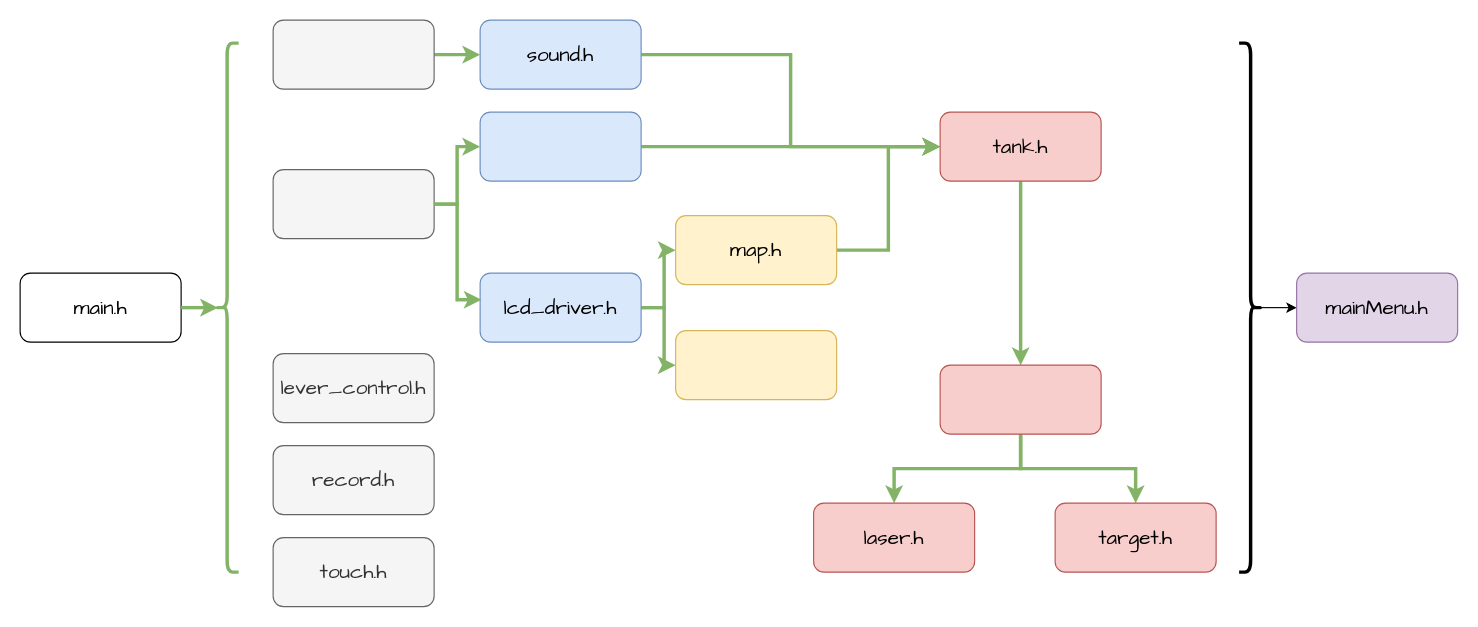
Some shapes in this 1478 by 627 pixel diagram are drawn without their labels. Here are the shapes that lost their labels. From the top down, the centre of each, then its label:
At point (353, 54): "audio.h".
At point (560, 146): "crash.h".
At point (353, 203): "global.h".
At point (755, 364): "showScore.h".
At point (1020, 399): "bullet.h".
